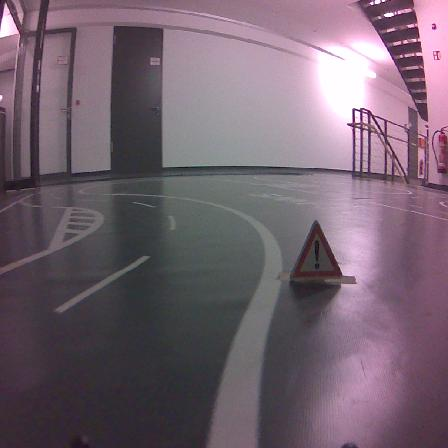ATTENTION: (290, 221, 341, 280)
